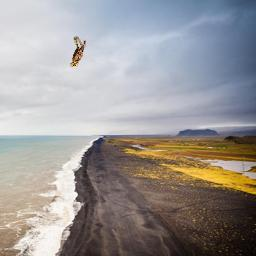Sparrow: (70, 37, 86, 68)
